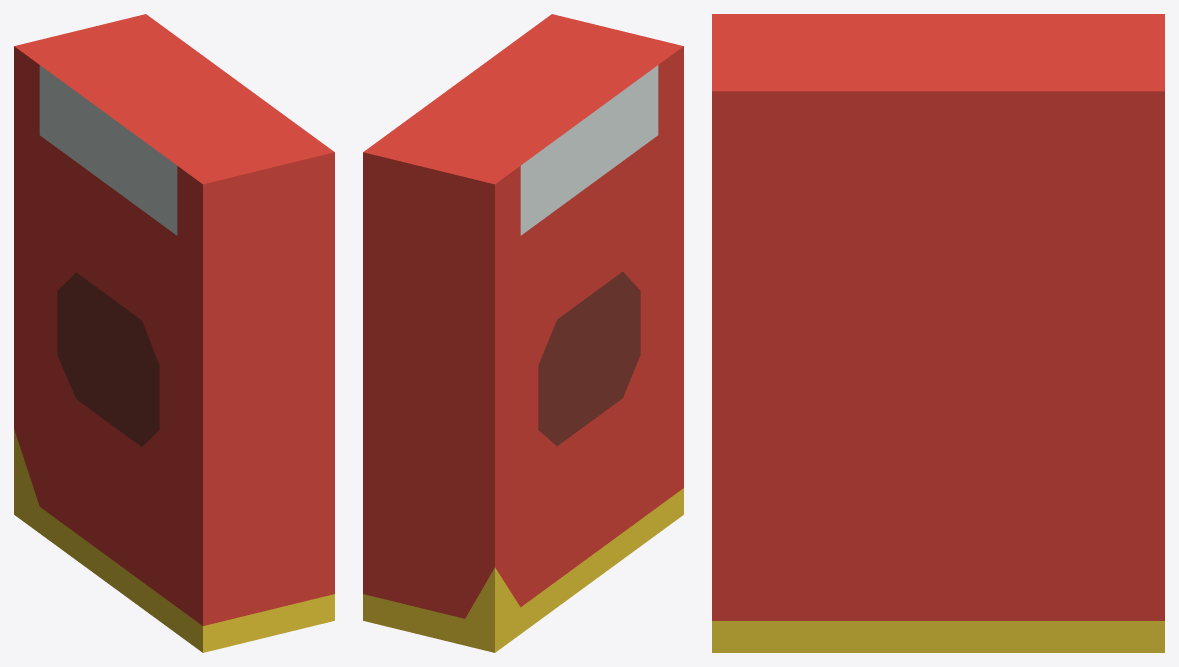
The model's file is P_paquet_cereale.fbx.
The picture shows the model from 3 angles, left to right: view 1: azimuth 30°, elevation 25°; view 2: azimuth 150°, elevation 25°; view 3: azimuth 270°, elevation 25°; orthographic projection. The views are drawn at different scales.
Visible parts, largest first — view 1: Box006; view 2: Box006; view 3: Box006.
Part boxes in pixels (x1,y1,x2,y2): Box006: (14,14,334,652); Box006: (363,14,683,652); Box006: (712,14,1164,652).
Size of the model in its own units: 3.1 by 10.51 by 7.68.
